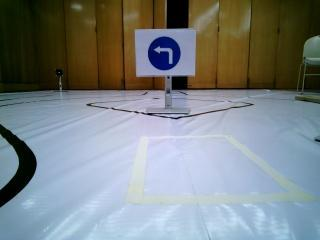left: (139, 32, 192, 72)
